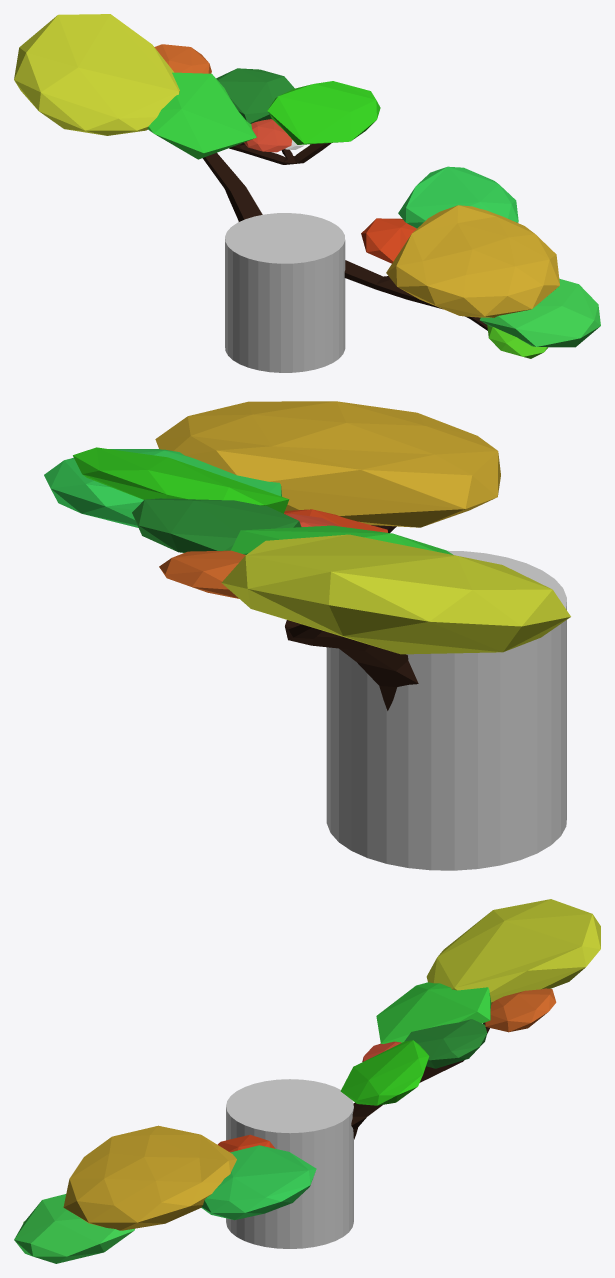
File: tree.obj
The picture shows the model from 3 angles, top to bottom: view 1: azimuth 30°, elevation 25°; view 2: azimuth 150°, elevation 25°; view 3: azimuth 270°, elevation 25°; orthographic projection. The views are drawn at different scales.
Visible parts, largest first — view 1: Cylinder, Icosphere.003, Icosphere.006, Icosphere.004, Icosphere, Icosphere.009, Icosphere.007, Cube, Icosphere.001, Icosphere.008, Icosphere.005, Icosphere.002 (+1 smaller); view 2: Cylinder, Icosphere.006, Icosphere.003, Icosphere, Icosphere.001, Icosphere.007, Cube, Icosphere.005, Icosphere.004, Icosphere.008; view 3: Cylinder, Icosphere.006, Icosphere.003, Icosphere.007, Icosphere.004, Icosphere.009, Icosphere, Icosphere.001, Icosphere.005, Cube, Icosphere.008.
Part boxes in pixels (x1=…): Cylinder: x1=225, y1=213, x2=345, y2=372; Icosphere.003: x1=14, y1=14, x2=179, y2=135; Icosphere.006: x1=386, y1=205, x2=559, y2=317; Icosphere.004: x1=147, y1=72, x2=256, y2=159; Icosphere: x1=267, y1=81, x2=380, y2=144; Icosphere.009: x1=480, y1=278, x2=600, y2=347; Icosphere.007: x1=398, y1=166, x2=518, y2=228; Cube: x1=202, y1=142, x2=487, y2=330; Icosphere.001: x1=216, y1=68, x2=294, y2=123; Icosphere.008: x1=361, y1=218, x2=416, y2=263; Icosphere.005: x1=154, y1=44, x2=211, y2=73; Icosphere.002: x1=244, y1=119, x2=292, y2=152; Cylinder: x1=326, y1=550, x2=566, y2=870; Icosphere.006: x1=155, y1=401, x2=500, y2=527; Icosphere.003: x1=221, y1=534, x2=570, y2=654; Icosphere: x1=73, y1=447, x2=289, y2=513; Icosphere.001: x1=132, y1=498, x2=301, y2=552; Icosphere.007: x1=44, y1=449, x2=281, y2=527; Cube: x1=285, y1=525, x2=418, y2=710; Icosphere.005: x1=159, y1=550, x2=245, y2=598; Icosphere.004: x1=231, y1=525, x2=452, y2=554; Icosphere.008: x1=284, y1=509, x2=387, y2=532; Cylinder: x1=226, y1=1079, x2=353, y2=1248; Icosphere.006: x1=63, y1=1125, x2=236, y2=1230; Icosphere.003: x1=426, y1=899, x2=600, y2=1002; Icosphere.007: x1=201, y1=1145, x2=316, y2=1220; Icosphere.004: x1=376, y1=982, x2=491, y2=1043; Icosphere.009: x1=14, y1=1194, x2=134, y2=1263; Icosphere: x1=340, y1=1040, x2=429, y2=1105; Icosphere.001: x1=404, y1=1019, x2=487, y2=1068; Icosphere.005: x1=485, y1=988, x2=556, y2=1032; Cube: x1=351, y1=1022, x2=489, y2=1139; Icosphere.008: x1=217, y1=1134, x2=275, y2=1152.
Size of the model in its own units: 6.99 by 4.56 by 9.18.
